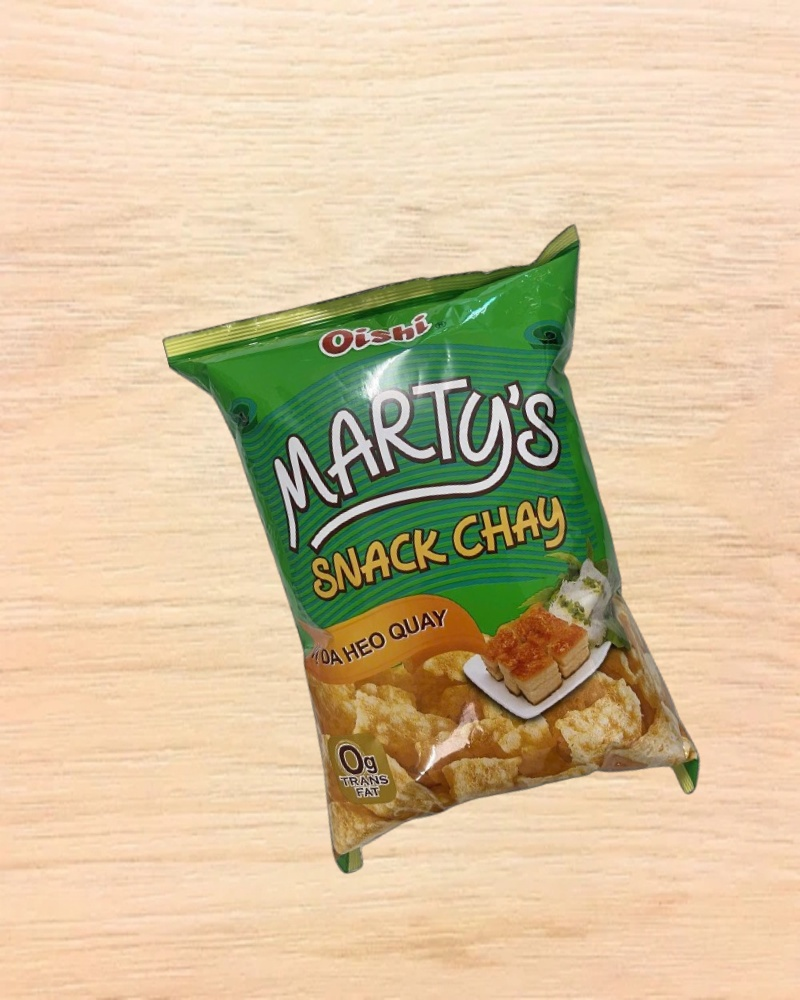Snack chay: (162, 224, 726, 895)
